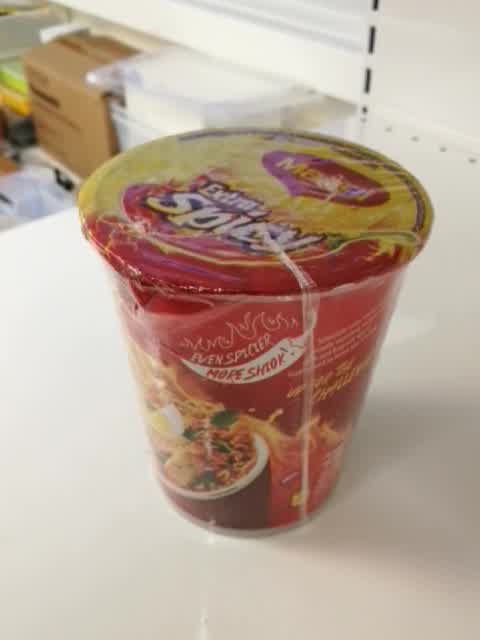maggi: (78, 126, 435, 539)
